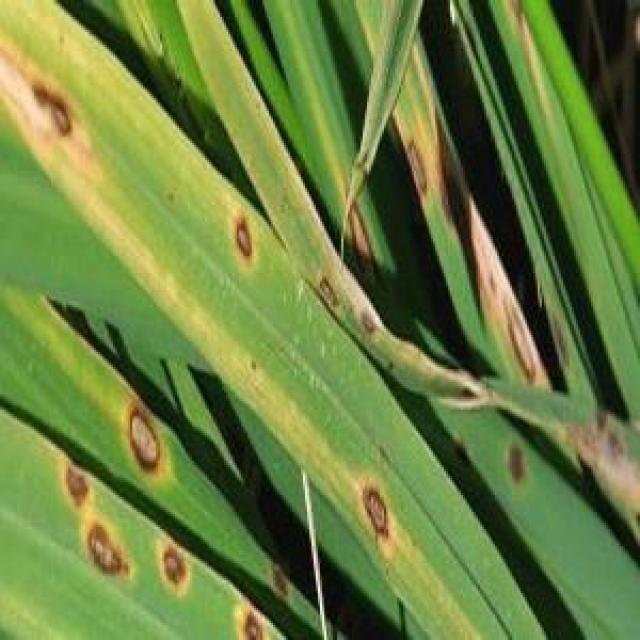brownspots: (491, 288, 548, 382), (113, 412, 175, 474), (26, 77, 84, 141), (354, 484, 403, 548), (80, 527, 134, 576), (403, 128, 438, 203), (153, 542, 194, 598), (346, 209, 380, 275), (220, 213, 264, 260), (49, 461, 96, 504), (502, 444, 536, 484), (232, 608, 276, 638), (264, 568, 296, 596)
